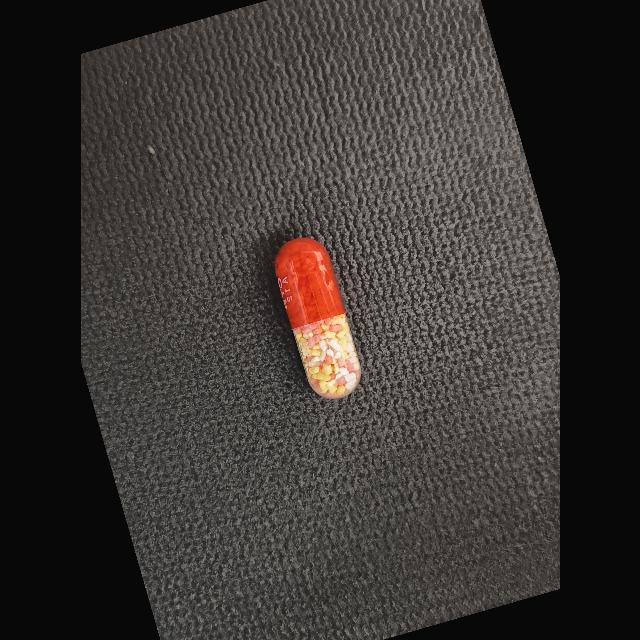Intact Capsule: (274, 238, 361, 399)
